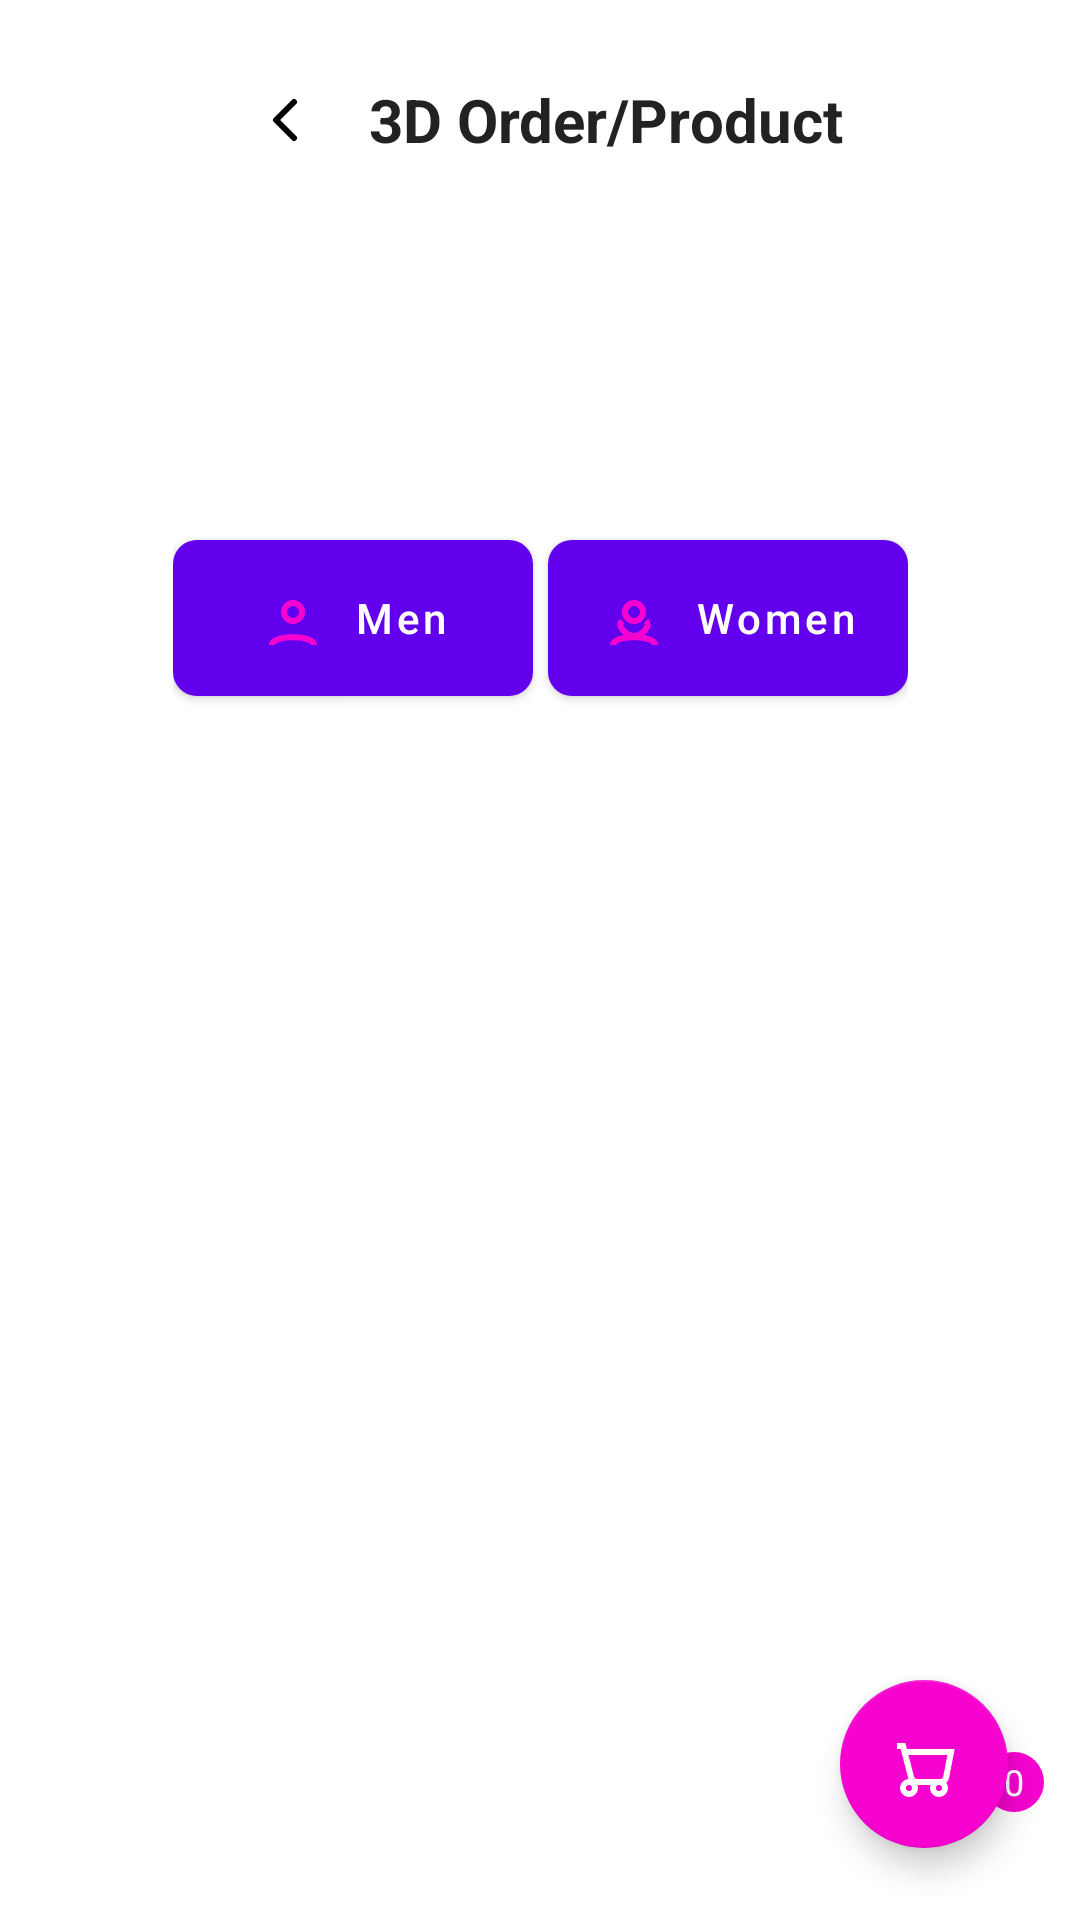

Icon bounding boxes for this 1080 x 1920 phone screenshot, format [x1=x1, y1=y1, x2=x2, y2=y2]:
Back: [x1=273, y1=99, x2=297, y2=141]
cart: [x1=840, y1=1680, x2=1008, y2=1848]
